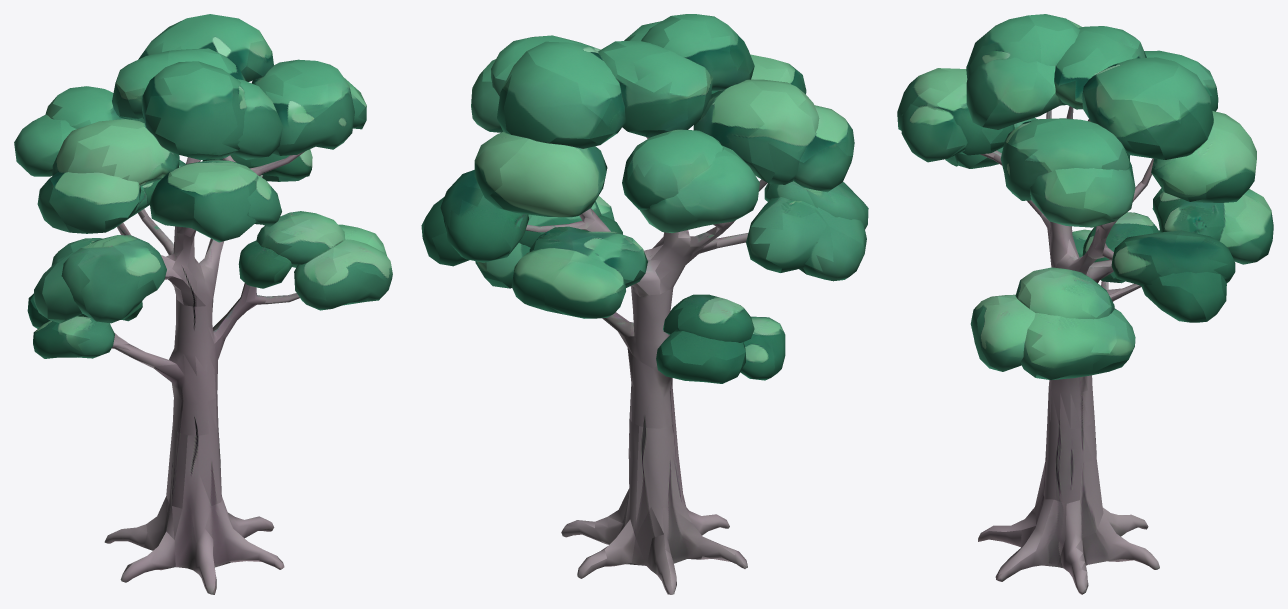
Rendered from tree.glb.
3 renders of one model, left to right at view 1: azimuth 30°, elevation 25°; view 2: azimuth 150°, elevation 25°; view 3: azimuth 270°, elevation 25°, orthographic. The views are drawn at different scales.
Visible parts, largest first — view 1: material-0; view 2: material-0; view 3: material-0.
Part boxes in pixels (<box>): material-0: <box>14,14,392,594</box>; material-0: <box>421,14,868,594</box>; material-0: <box>897,14,1273,594</box>.
Size of the model in its own units: 13.32 by 18 by 11.71.
Materials: 1 (1 with a texture image).
